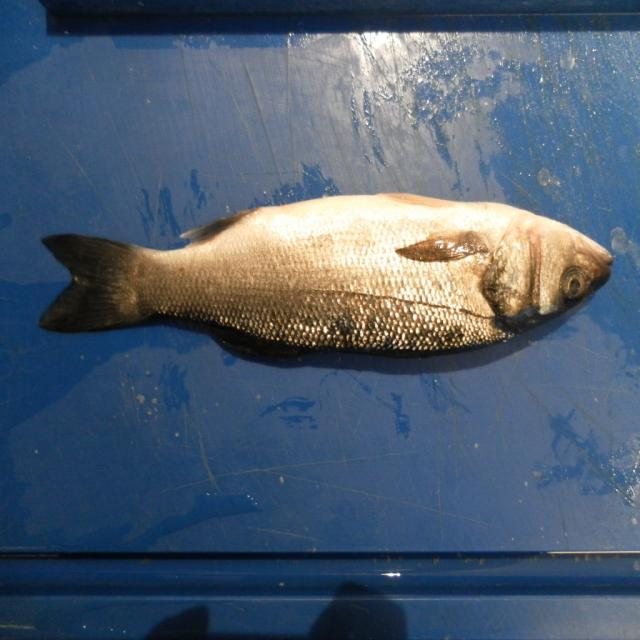Sea-Bass-levrek-: (37, 192, 615, 357)
